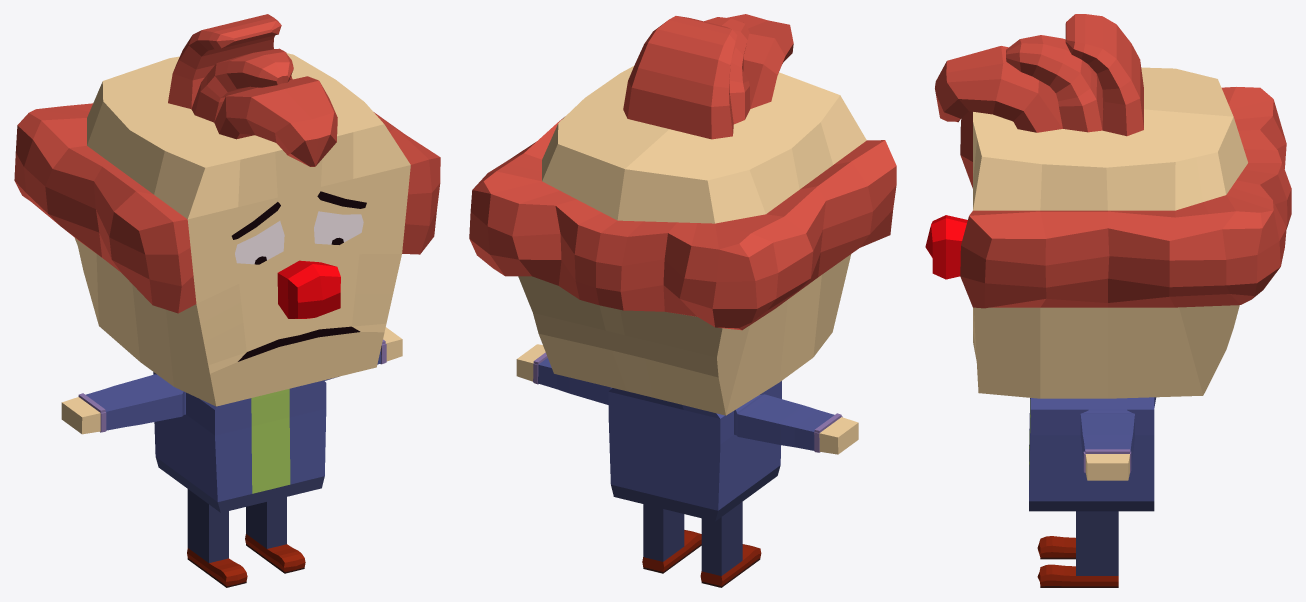
Rendered from CharacterPrincipal9.fbx.
3 views of the same model, side by side, from view 1: azimuth 30°, elevation 25°; view 2: azimuth 150°, elevation 25°; view 3: azimuth 270°, elevation 25° (orthographic).
Parts seen in each view (by area): view 1: Character; view 2: Character; view 3: Character.
Part boxes in pixels (bbox=[...]): Character: bbox=[14, 14, 440, 587]; Character: bbox=[469, 14, 896, 587]; Character: bbox=[925, 14, 1291, 587].
Bounding box in the file's own units: 276 × 442 × 271.
